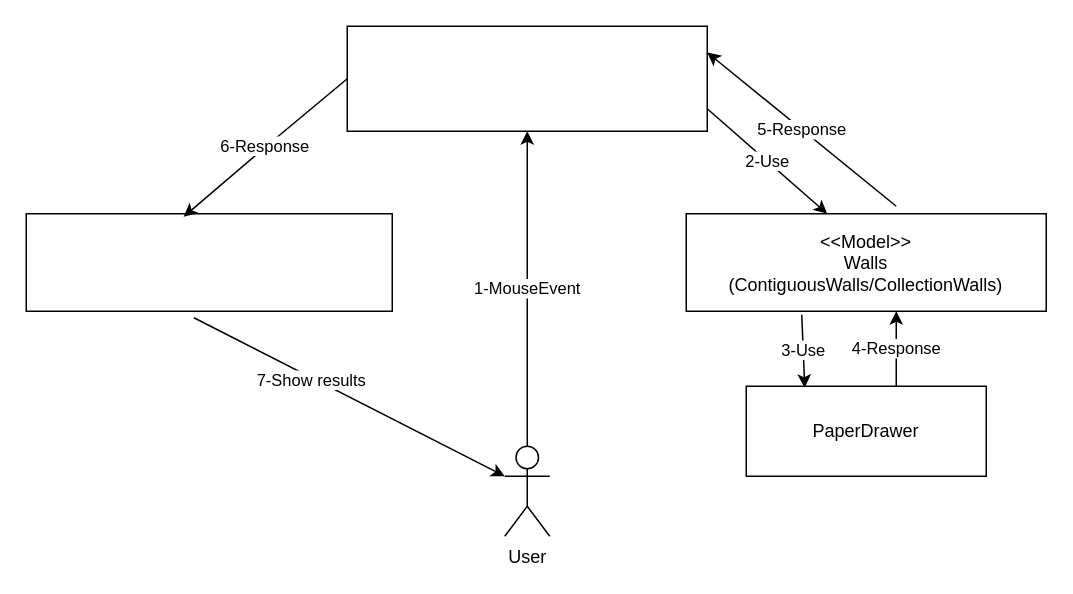
Image size: 1073x594. Some labels were removed from this diagram. The shapes that lost their labels are listed below. From the top down, each one's centre as x and y in pixels, then its label:
At point 526,78: "<<Controller>> WallBuilder (ExternalWallBuilder/InternalWallBuilder)".
At point 208,261: "<<View>> Index.html".
